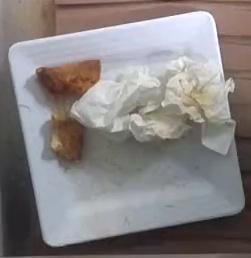pizza_crust: (36, 59, 101, 160)
